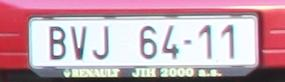-: (184, 40, 191, 44)
1: (221, 24, 234, 59), (199, 25, 212, 59)
4: (162, 26, 178, 60)
6: (139, 27, 157, 58)
B: (50, 26, 65, 60)
J: (92, 25, 108, 60)
V: (72, 25, 86, 59)
